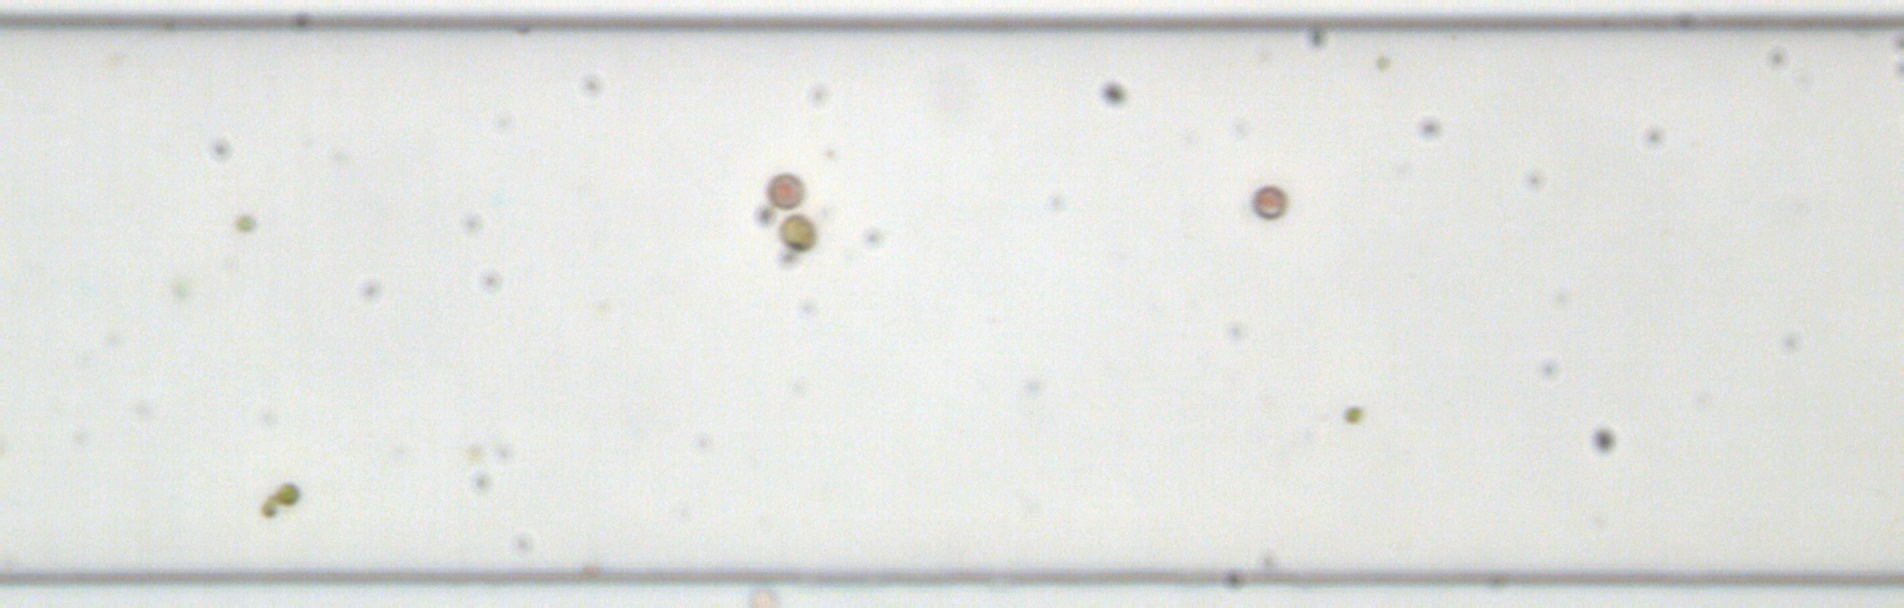Chlorella: (274, 481, 302, 506), (257, 495, 280, 519), (234, 212, 256, 235), (1342, 404, 1364, 425), (1372, 53, 1392, 70)
Effrenium: (773, 211, 818, 252)
Porphyridium: (763, 171, 811, 214), (1249, 182, 1288, 221)
